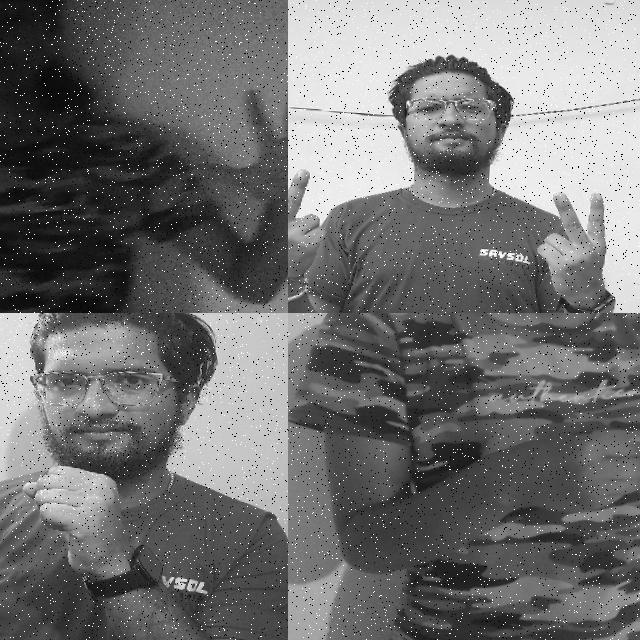Fist Mouth: (0, 313, 227, 611)
Five Fathers: (489, 344, 640, 539)
Moutza: (172, 61, 288, 257)
Reversed Victory: (525, 180, 620, 313), (288, 155, 326, 296)
